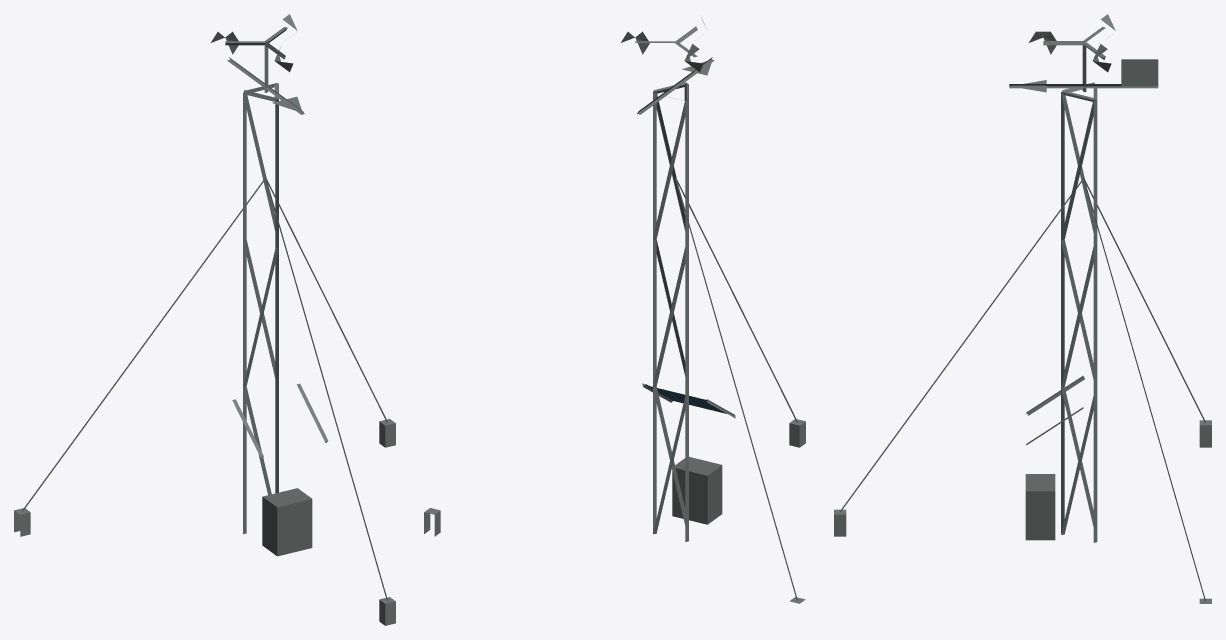
The model's file is weather_mast.glb.
3 renders of one model, left to right at view 1: azimuth 30°, elevation 25°; view 2: azimuth 150°, elevation 25°; view 3: azimuth 270°, elevation 25°, orthographic.
Visible parts, largest first — view 1: weather_mast; view 2: weather_mast; view 3: weather_mast.
Boxes of the visible parts, left/top/right/bottom form: weather_mast: left=14, top=14, right=395, bottom=625; weather_mast: left=424, top=17, right=805, bottom=603; weather_mast: left=834, top=14, right=1211, bottom=603.
Bounding box in the file's own units: 3.21 × 4.1 × 2.79.
